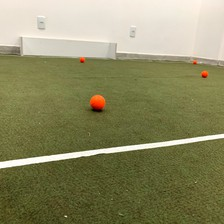ball: (86, 92, 107, 113), (197, 68, 209, 79), (76, 54, 86, 64), (191, 57, 198, 66)
goal: (15, 33, 118, 62)
